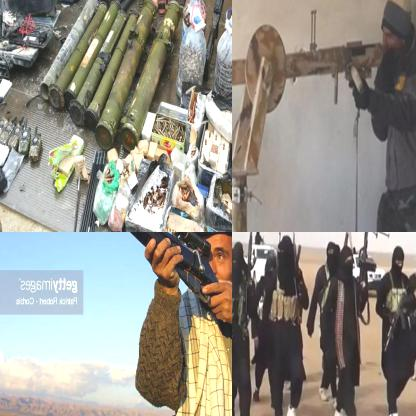rifle: (0, 232, 231, 326), (198, 0, 231, 83), (381, 288, 411, 352), (241, 232, 260, 317), (357, 232, 379, 286), (340, 232, 355, 260)
